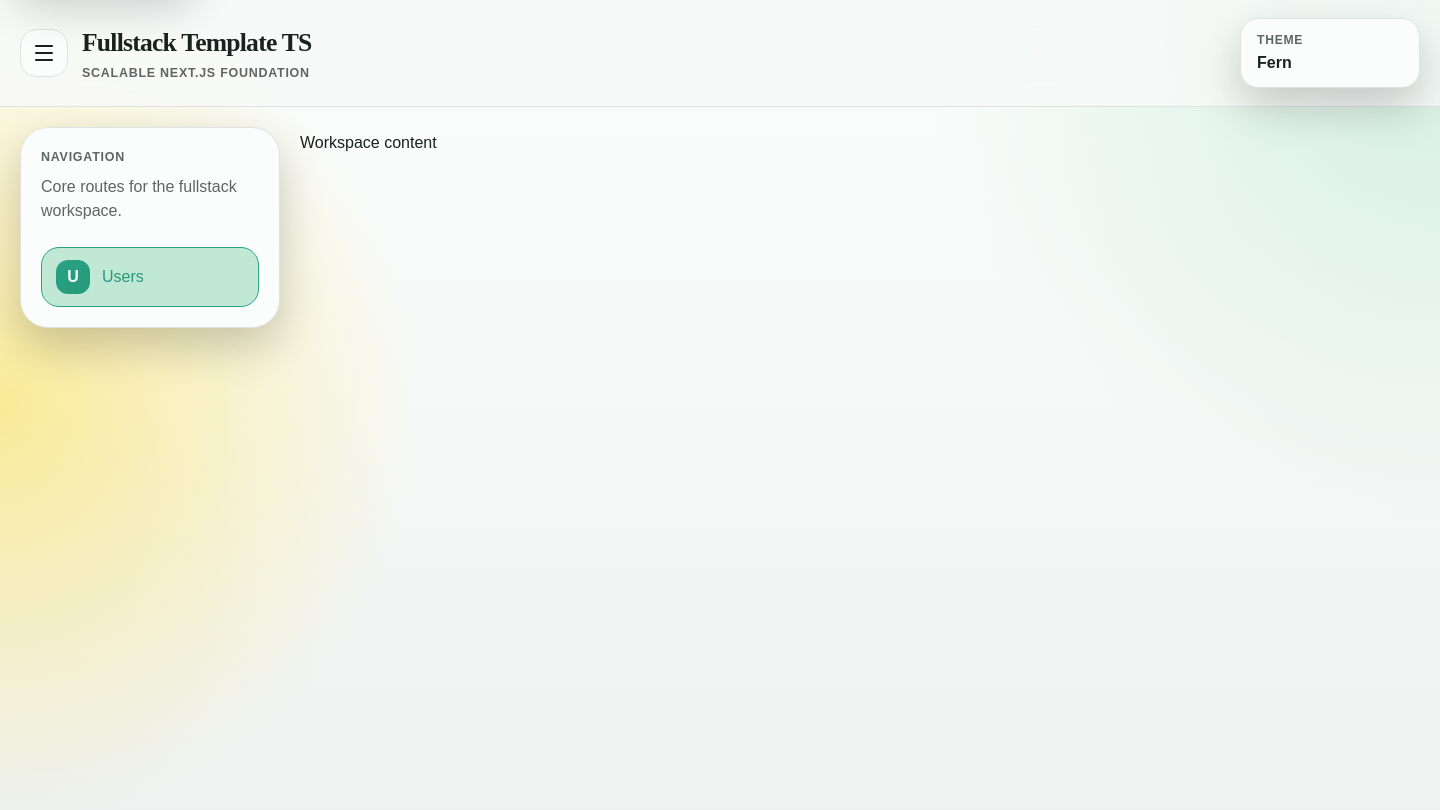
Scenario: AppShell › keeps the shell interactive when browser storage is unavailable
Click the button named "Collapse navigation" at (44, 53), box left=20, top=29, right=68, bottom=77
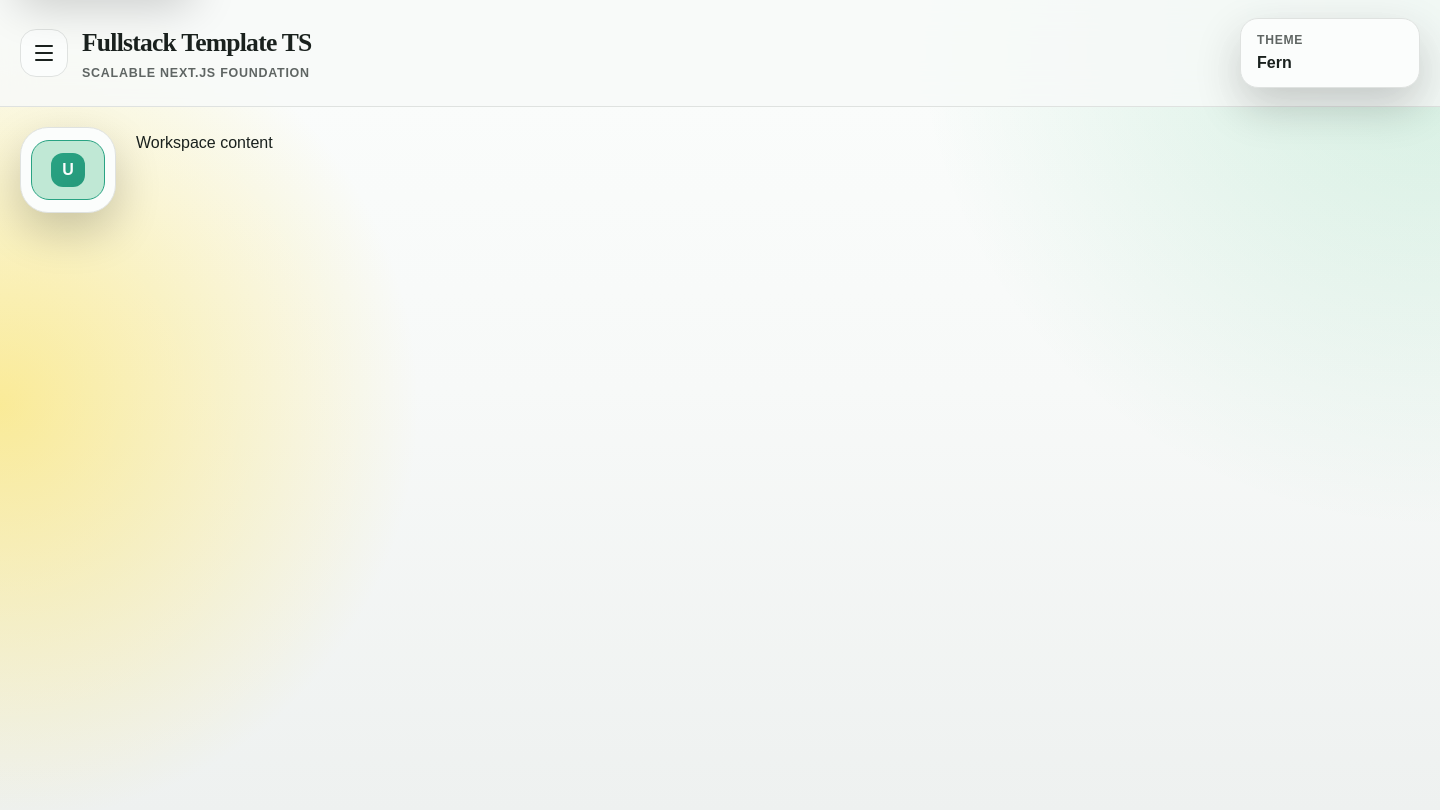
Click the button "Theme Fern" at (1330, 53), box left=1240, top=18, right=1420, bottom=88
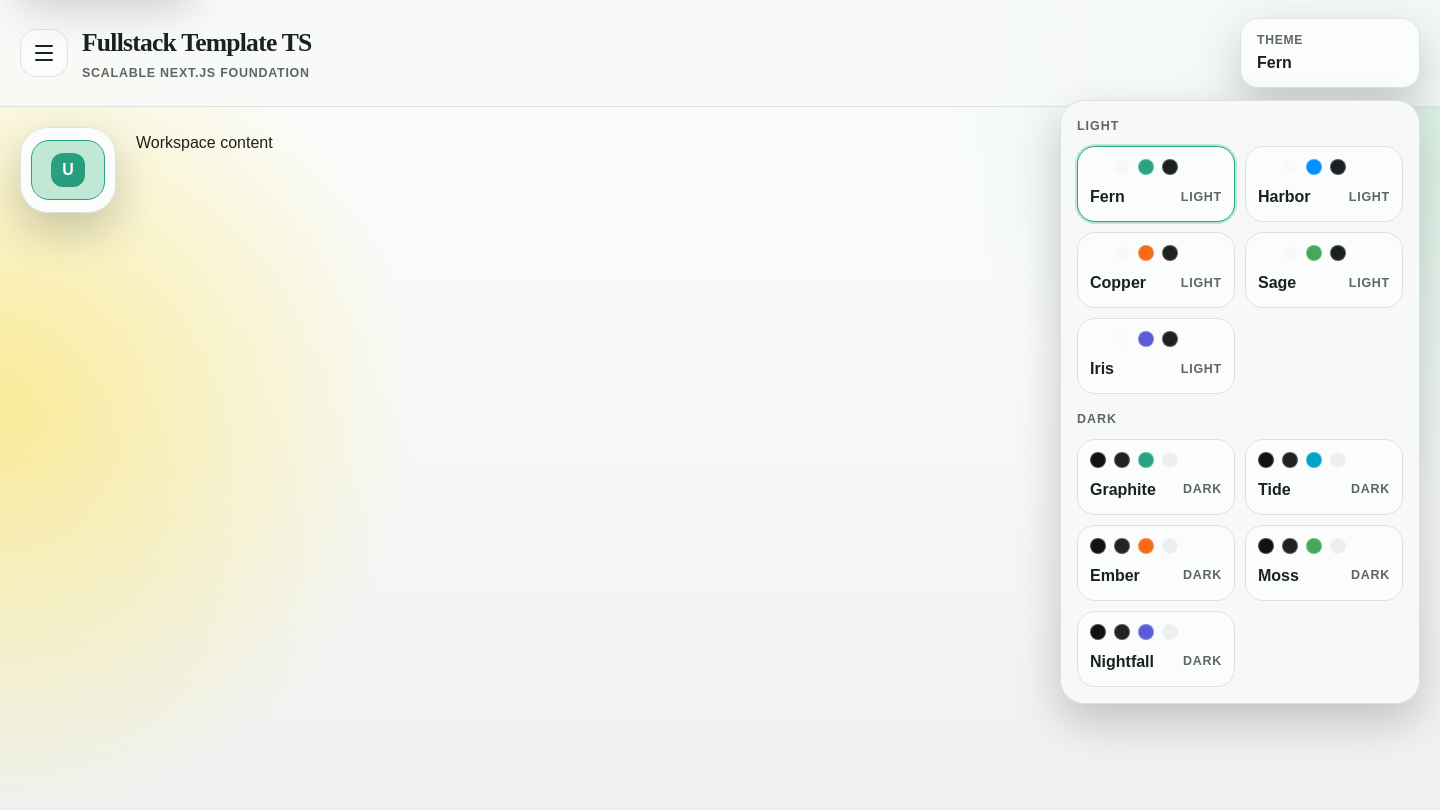
Click the button "Nightfall Dark" at (1156, 649), box left=1077, top=611, right=1235, bottom=687
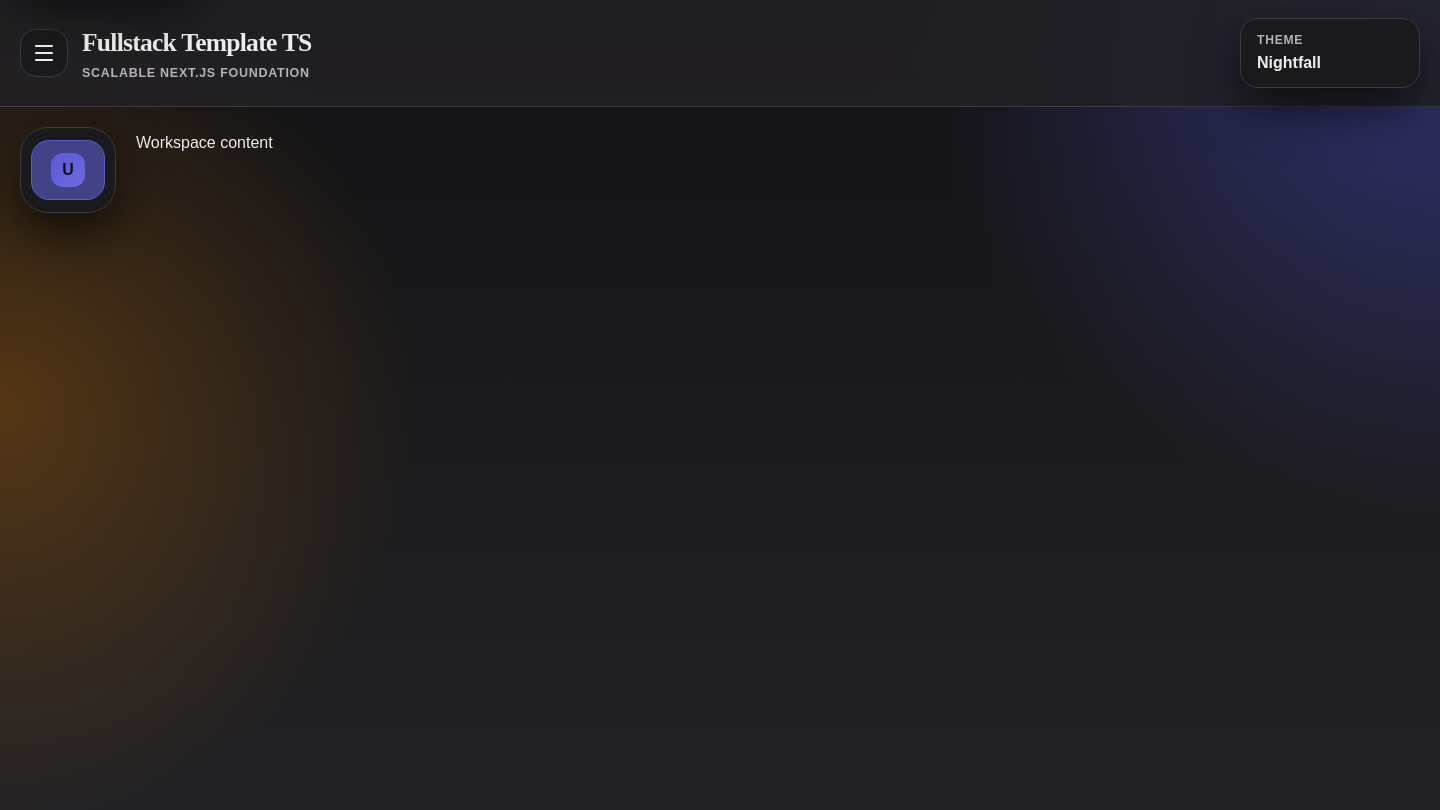
Expected: the button "Theme Nightfall" is shown, left=1240, top=18, right=1420, bottom=88
